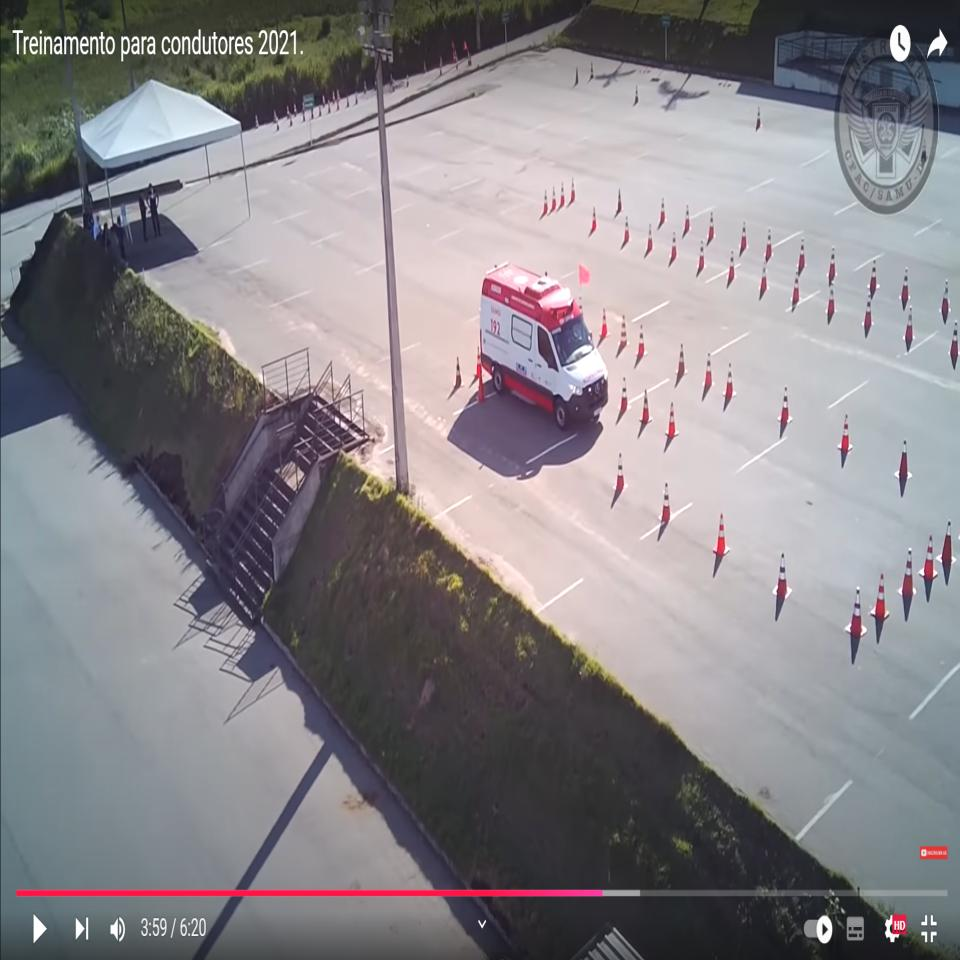ambulancia: (478, 252, 613, 432)
